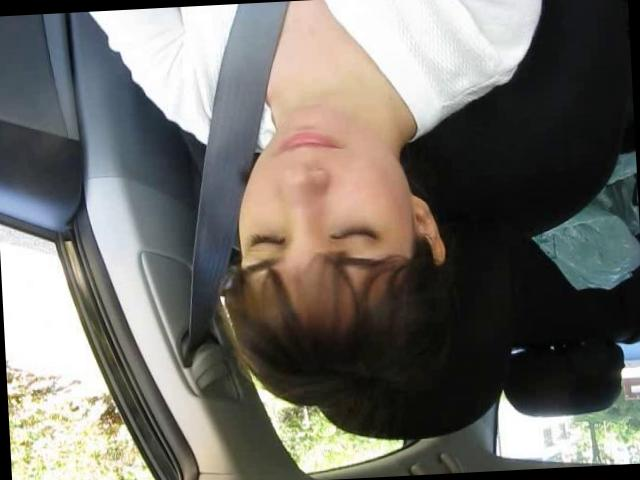eye_closed: (326, 218, 382, 252), (244, 222, 292, 256)
face: (226, 92, 404, 302)
